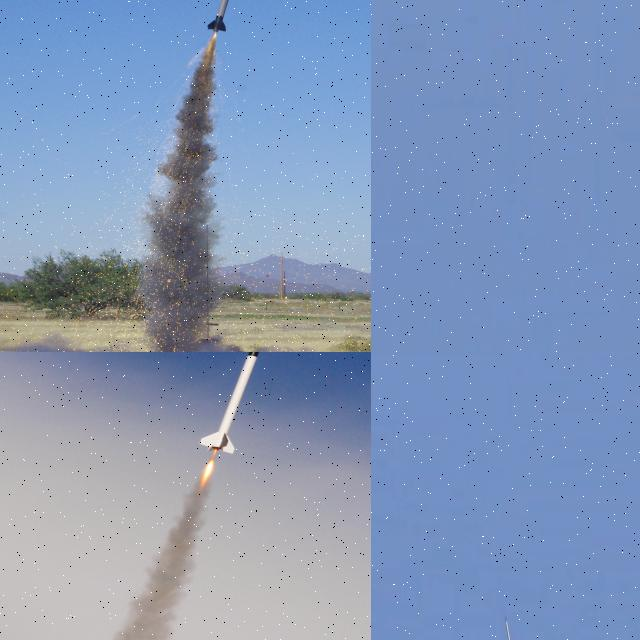Rocket: (199, 352, 267, 454), (207, 0, 247, 34), (505, 618, 516, 640)
